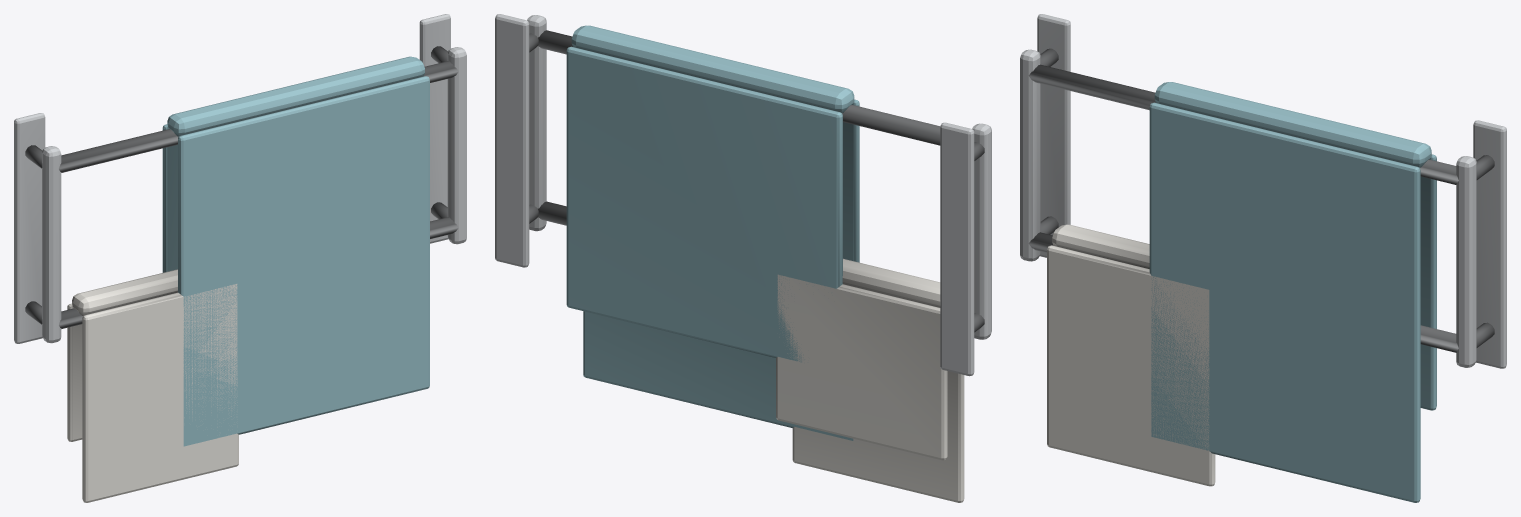
Rendered from towelRail.glb.
3 renders of one model, left to right at view 1: azimuth 30°, elevation 25°; view 2: azimuth 150°, elevation 25°; view 3: azimuth 330°, elevation 25°, orthographic. The views are drawn at different scales.
Visible parts, largest first — view 1: towelRail; view 2: towelRail; view 3: towelRail.
Boxes of the visible parts, left/top/right/bottom form: towelRail: left=14, top=14, right=466, bottom=502; towelRail: left=495, top=14, right=991, bottom=502; towelRail: left=1020, top=14, right=1506, bottom=502.
Size of the model in its own units: 0.73 by 0.595 by 0.098.
